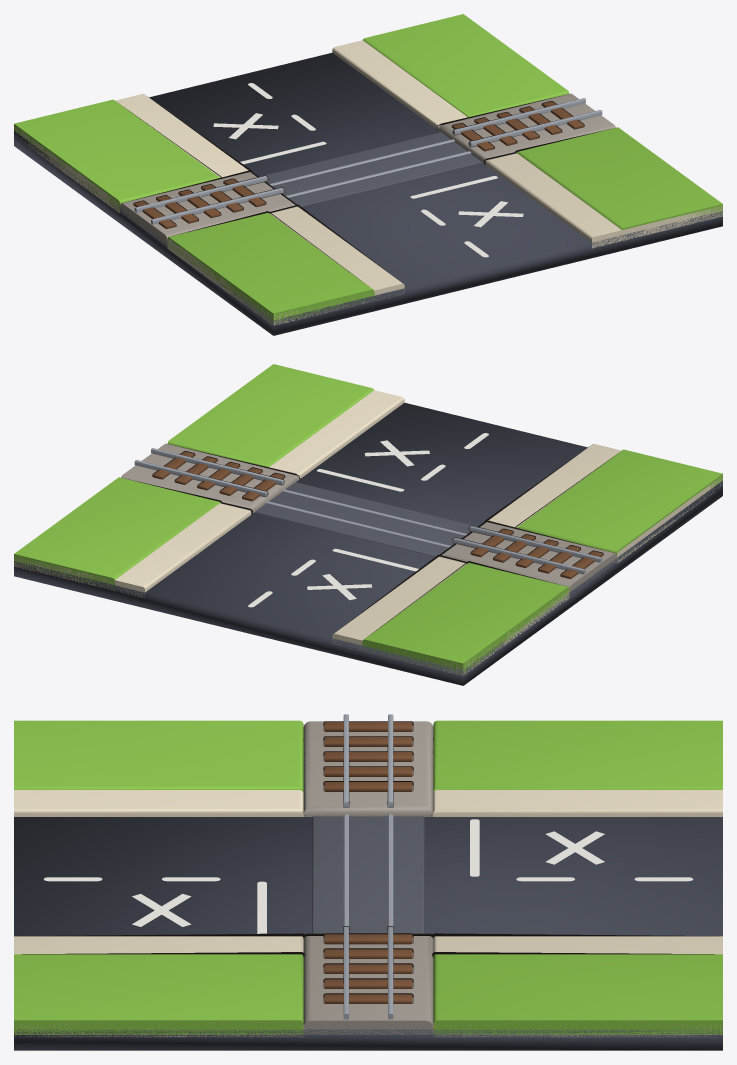
File: Rail_RoadCrossing.fbx
3 renders of one model, top to bottom at view 1: azimuth 30°, elevation 25°; view 2: azimuth 150°, elevation 25°; view 3: azimuth 270°, elevation 25°, orthographic. The views are drawn at different scales.
Parts seen in each view (by area): view 1: Tile_Rail_RoadCrossing_Asphalt, Tile_Rail_RoadCrossing_Grass, Tile_Rail_RoadCrossing_Sidewalk, Tile_Rail_RoadCrossing_Gravel, Tile_Rail_RoadCrossing_Rubber, Tile_Rail_RoadCrossing_RailMetal, Tile_Rail_RoadCrossing_Sleeper, Tile_Rail_RoadCrossing_Outline, Tile_Rail_RoadCrossing_LineWhite; view 2: Tile_Rail_RoadCrossing_Asphalt, Tile_Rail_RoadCrossing_Grass, Tile_Rail_RoadCrossing_Sidewalk, Tile_Rail_RoadCrossing_Gravel, Tile_Rail_RoadCrossing_Rubber, Tile_Rail_RoadCrossing_RailMetal, Tile_Rail_RoadCrossing_Sleeper, Tile_Rail_RoadCrossing_Outline, Tile_Rail_RoadCrossing_LineWhite; view 3: Tile_Rail_RoadCrossing_Grass, Tile_Rail_RoadCrossing_Asphalt, Tile_Rail_RoadCrossing_Sidewalk, Tile_Rail_RoadCrossing_Gravel, Tile_Rail_RoadCrossing_Rubber, Tile_Rail_RoadCrossing_Sleeper, Tile_Rail_RoadCrossing_Outline, Tile_Rail_RoadCrossing_LineWhite, Tile_Rail_RoadCrossing_RailMetal.
Part boxes in pixels (x1,y1,x2,y2): Tile_Rail_RoadCrossing_Asphalt: (14,52,722,335); Tile_Rail_RoadCrossing_Grass: (14,14,722,323); Tile_Rail_RoadCrossing_Sidewalk: (14,40,722,325); Tile_Rail_RoadCrossing_Gravel: (120,93,615,246); Tile_Rail_RoadCrossing_Rubber: (259,132,482,206); Tile_Rail_RoadCrossing_RailMetal: (134,98,602,224); Tile_Rail_RoadCrossing_Sleeper: (134,101,584,228); Tile_Rail_RoadCrossing_Outline: (124,96,611,280); Tile_Rail_RoadCrossing_LineWhite: (213,83,523,257); Tile_Rail_RoadCrossing_Asphalt: (14,402,722,685); Tile_Rail_RoadCrossing_Grass: (14,364,722,673); Tile_Rail_RoadCrossing_Sidewalk: (14,390,722,675); Tile_Rail_RoadCrossing_Gravel: (121,443,616,592); Tile_Rail_RoadCrossing_Rubber: (254,482,477,556); Tile_Rail_RoadCrossing_RailMetal: (134,448,602,574); Tile_Rail_RoadCrossing_Sleeper: (152,451,602,578); Tile_Rail_RoadCrossing_Outline: (125,446,612,630); Tile_Rail_RoadCrossing_LineWhite: (248,433,488,607); Tile_Rail_RoadCrossing_Grass: (14,720,722,1034); Tile_Rail_RoadCrossing_Asphalt: (14,817,722,1050); Tile_Rail_RoadCrossing_Sidewalk: (14,790,722,1037); Tile_Rail_RoadCrossing_Gravel: (303,721,433,1034); Tile_Rail_RoadCrossing_Rubber: (312,816,424,933); Tile_Rail_RoadCrossing_Sleeper: (324,722,412,1003); Tile_Rail_RoadCrossing_Outline: (17,721,719,1002); Tile_Rail_RoadCrossing_LineWhite: (43,819,693,933); Tile_Rail_RoadCrossing_RailMetal: (343,714,393,1019).
Bounding box in the file's own units: 24 × 1.4 × 24.
